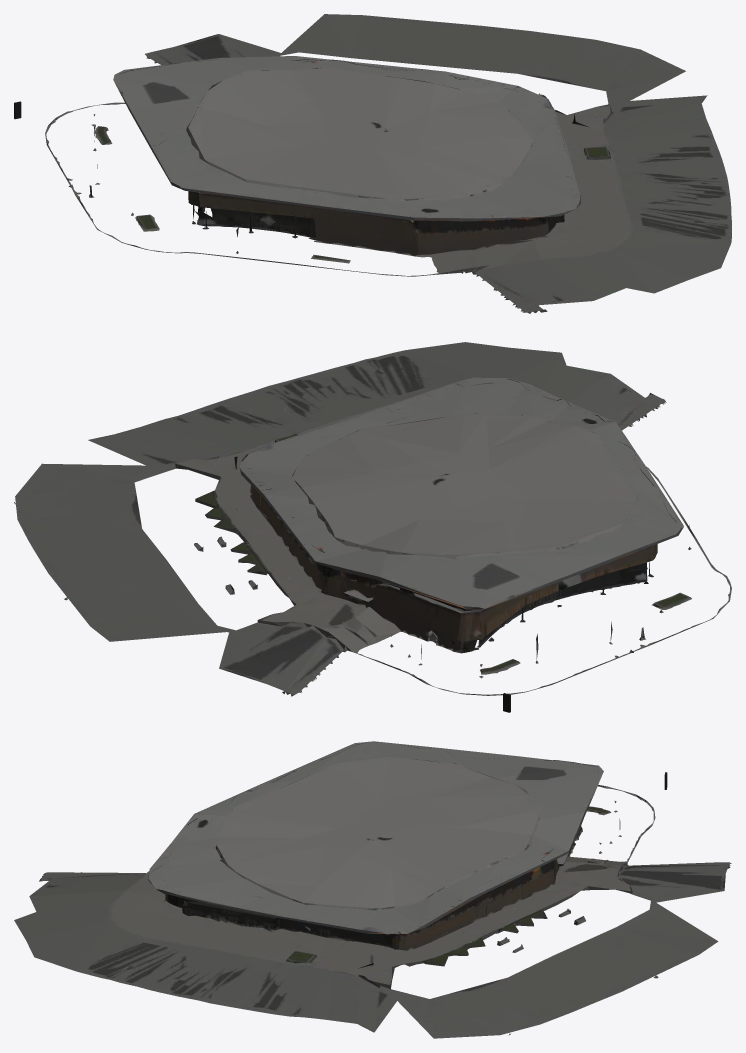
The model's file is t_3_2.coat.glb.
The picture shows the model from 3 angles, top to bottom: view 1: azimuth 30°, elevation 25°; view 2: azimuth 150°, elevation 25°; view 3: azimuth 270°, elevation 25°; orthographic projection. The views are drawn at different scales.
Parts seen in each view (by area): view 1: far; view 2: far; view 3: far.
Boxes of the visible parts, x1,y1,x2,y2 form: far: (14,14,731,313); far: (14,342,731,712); far: (14,741,731,1038).
Size of the model in its own units: 252 by 23.93 by 275.
Materials: 1 (1 with a texture image).
